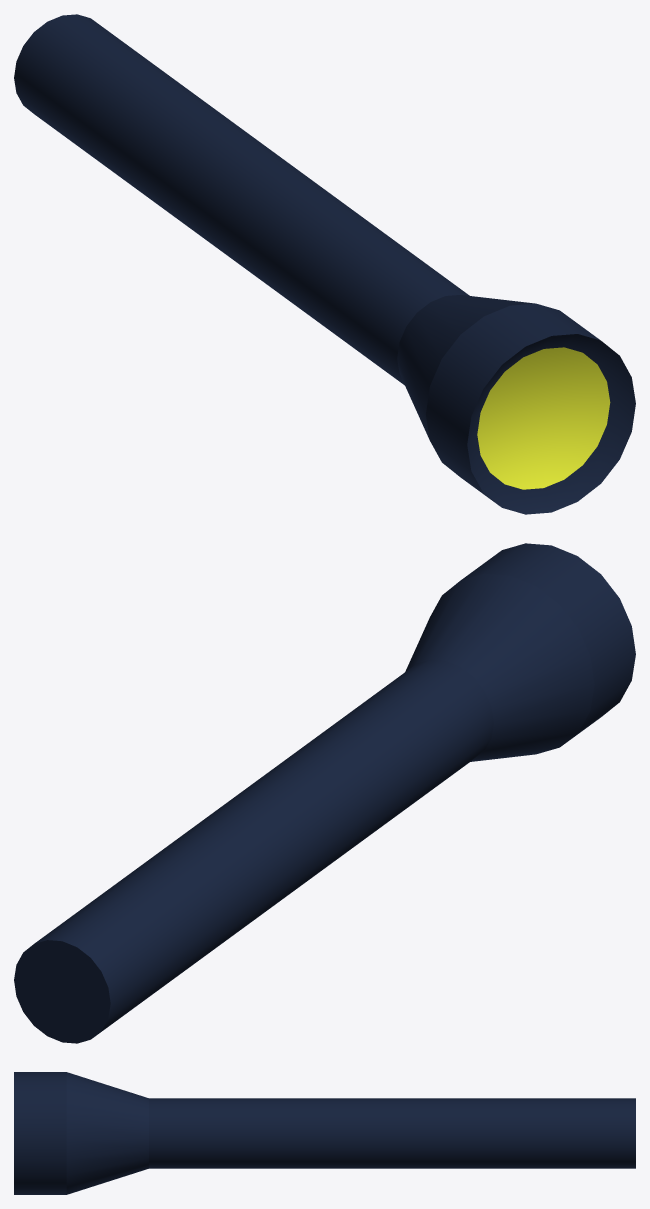
Rendered from FlashLight.fbx.
3 renders of one model, top to bottom at view 1: azimuth 30°, elevation 25°; view 2: azimuth 150°, elevation 25°; view 3: azimuth 270°, elevation 25°, orthographic. The views are drawn at different scales.
Parts seen in each view (by area): view 1: Flashlight; view 2: Flashlight; view 3: Flashlight.
Part boxes in pixels (box(x1,y1,x2,y2)): Flashlight: box(14, 14, 635, 514); Flashlight: box(14, 543, 635, 1043); Flashlight: box(14, 1072, 635, 1194).
Bounding box in the file's own units: 0.1718 × 0.1718 × 0.8623.
